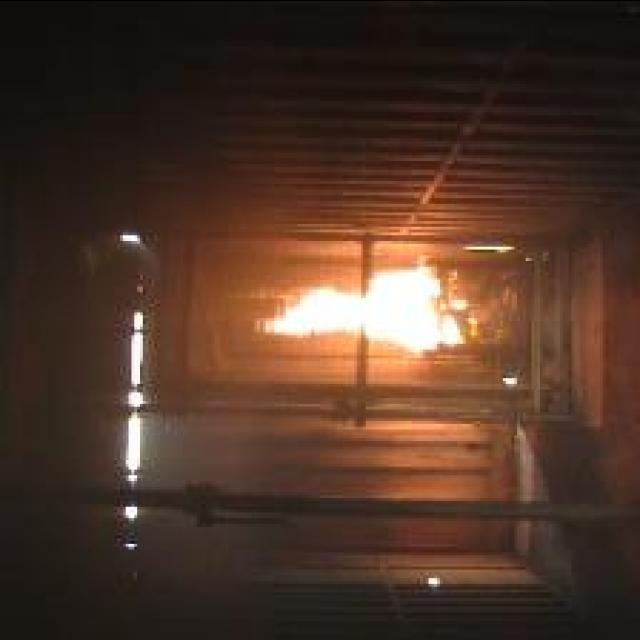Fire: (254, 260, 466, 348)
